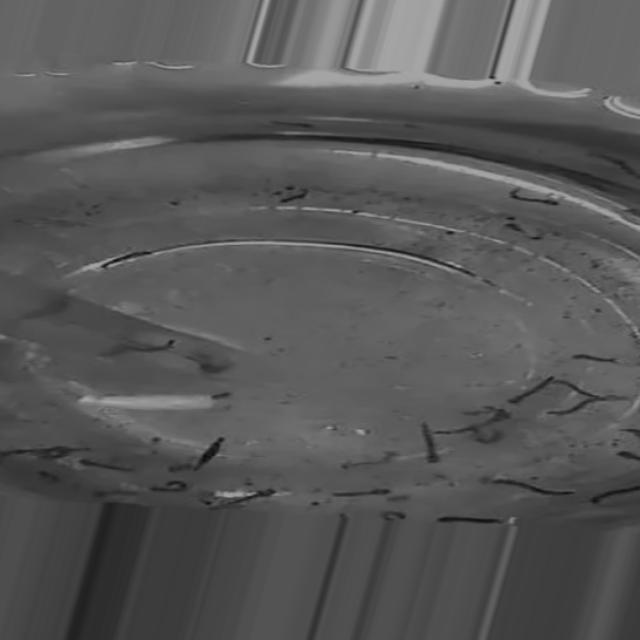larvas: (495, 478, 574, 497), (510, 374, 553, 406), (474, 410, 510, 444), (593, 482, 640, 506), (559, 373, 600, 400), (510, 185, 557, 208), (196, 431, 224, 468), (113, 338, 173, 355), (221, 488, 272, 507), (546, 396, 590, 418), (1, 442, 64, 457), (349, 452, 395, 472), (102, 247, 149, 266), (332, 486, 390, 501), (80, 459, 136, 474), (618, 423, 640, 459), (433, 420, 472, 440), (421, 422, 438, 462), (438, 514, 500, 524), (155, 480, 187, 495), (573, 354, 617, 364), (280, 191, 310, 203), (381, 508, 405, 521)
